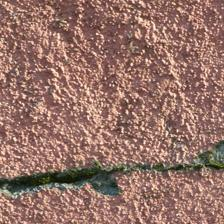Crack: (2, 71, 219, 133)
